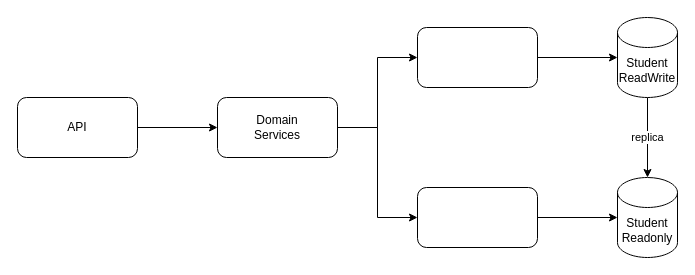
Image size: 695x275. Some labels were removed from this diagram. Each missing label, with the centre of its shape:
"Readonly StudentDBContext" belongs at point (477, 217).
"ReadWrite StudentContext" belongs at point (477, 57).
